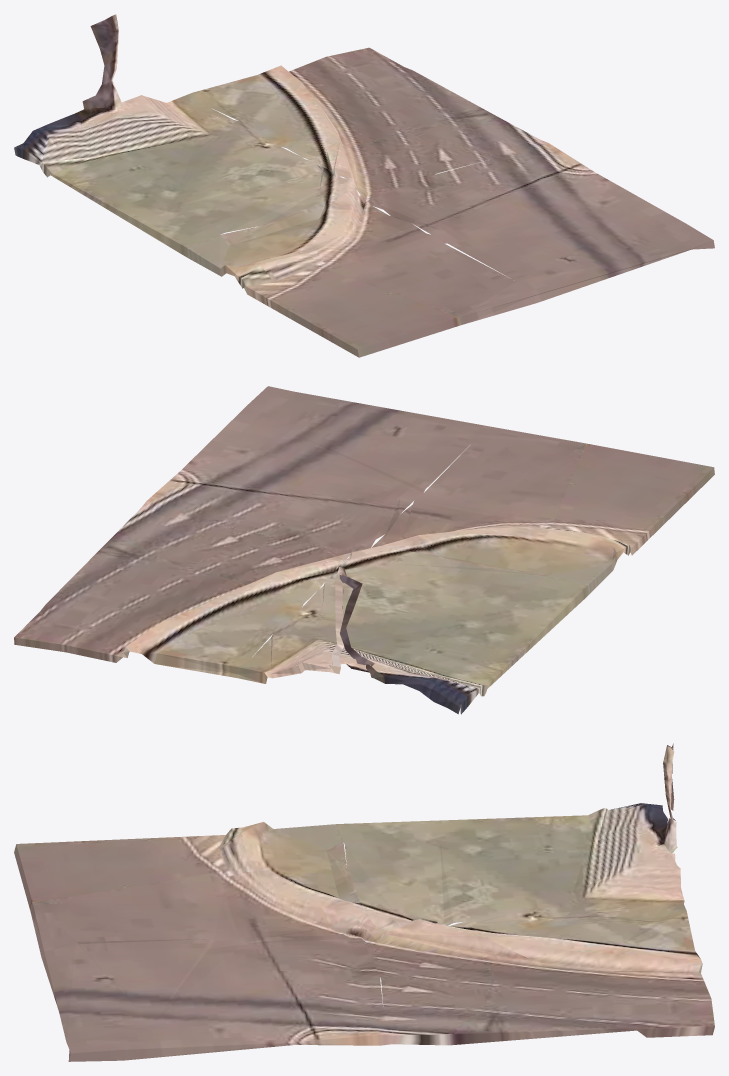
The picture shows the model from 3 angles, top to bottom: view 1: azimuth 30°, elevation 25°; view 2: azimuth 150°, elevation 25°; view 3: azimuth 270°, elevation 25°; orthographic projection. The views are drawn at different scales.
Parts seen in each view (by area): view 1: Mesh_0; view 2: Mesh_0; view 3: Mesh_0.
Part boxes in pixels (x1,y1,x2,y2): Mesh_0: (14, 14, 714, 357); Mesh_0: (14, 386, 714, 714); Mesh_0: (14, 743, 714, 1061).
Size of the model in its own units: 33.32 by 8.96 by 41.28.
Materials: 1 (1 with a texture image).
